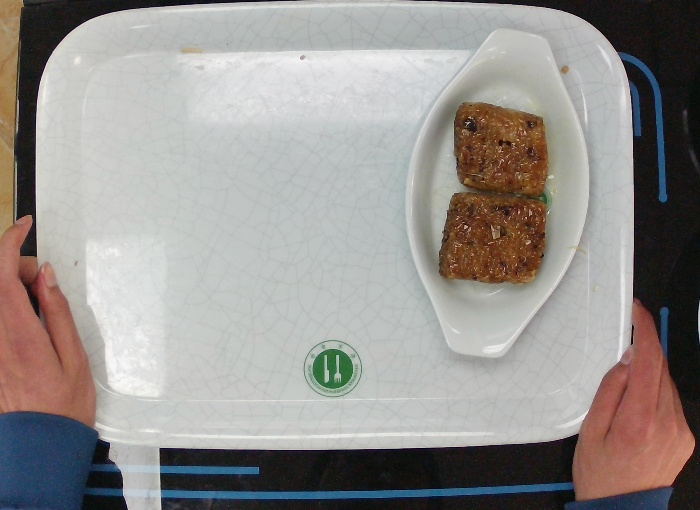JYsf-Yu_Pan: (402, 25, 593, 359)
